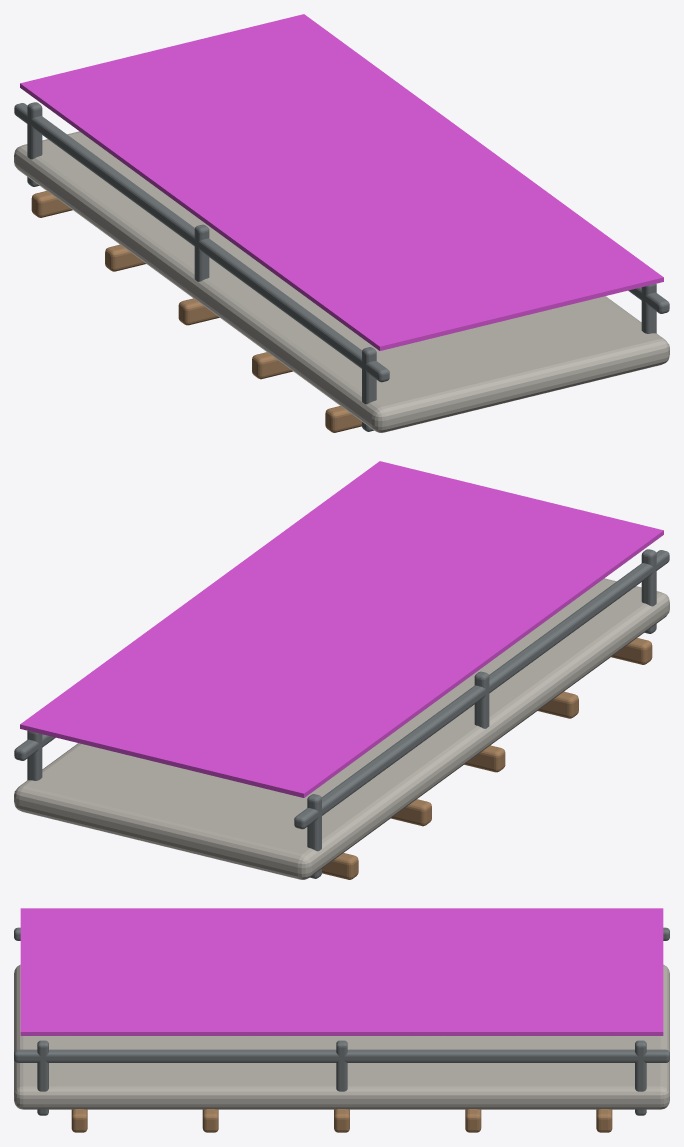
The model's file is mini_vehicle_bridge_lod0_v1.glb.
The picture shows the model from 3 angles, top to bottom: view 1: azimuth 30°, elevation 25°; view 2: azimuth 150°, elevation 25°; view 3: azimuth 270°, elevation 25°; orthographic projection. The views are drawn at different scales.
Parts seen in each view (by area): view 1: NAV_MASK_MINI_VEHICLE_BRIDGE, LOD0_MINI_VEHICLE_BRIDGE_Deck, LOD0_MINI_VEHICLE_BRIDGE_Rail, LOD0_MINI_VEHICLE_BRIDGE_Post.002, LOD0_MINI_VEHICLE_BRIDGE_CrossBeam_03, LOD0_MINI_VEHICLE_BRIDGE_CrossBeam_05, LOD0_MINI_VEHICLE_BRIDGE_CrossBeam_04, LOD0_MINI_VEHICLE_BRIDGE_CrossBeam_02, LOD0_MINI_VEHICLE_BRIDGE_Post, LOD0_MINI_VEHICLE_BRIDGE_CrossBeam_01, LOD0_MINI_VEHICLE_BRIDGE_Post.001; view 2: NAV_MASK_MINI_VEHICLE_BRIDGE, LOD0_MINI_VEHICLE_BRIDGE_Deck, LOD0_MINI_VEHICLE_BRIDGE_Rail, LOD0_MINI_VEHICLE_BRIDGE_Post, LOD0_MINI_VEHICLE_BRIDGE_CrossBeam_03, LOD0_MINI_VEHICLE_BRIDGE_CrossBeam_01, LOD0_MINI_VEHICLE_BRIDGE_Post.002, LOD0_MINI_VEHICLE_BRIDGE_CrossBeam_02, LOD0_MINI_VEHICLE_BRIDGE_CrossBeam_04, LOD0_MINI_VEHICLE_BRIDGE_CrossBeam_05, LOD0_MINI_VEHICLE_BRIDGE_Post.001; view 3: NAV_MASK_MINI_VEHICLE_BRIDGE, LOD0_MINI_VEHICLE_BRIDGE_Deck, LOD0_MINI_VEHICLE_BRIDGE_Rail.001, LOD0_MINI_VEHICLE_BRIDGE_Post.003, LOD0_MINI_VEHICLE_BRIDGE_Post.005, LOD0_MINI_VEHICLE_BRIDGE_Post.004, LOD0_MINI_VEHICLE_BRIDGE_CrossBeam_01, LOD0_MINI_VEHICLE_BRIDGE_CrossBeam_02, LOD0_MINI_VEHICLE_BRIDGE_CrossBeam_04, LOD0_MINI_VEHICLE_BRIDGE_CrossBeam_05, LOD0_MINI_VEHICLE_BRIDGE_CrossBeam_03.
Boxes of the visible parts, box(x1,y1,x2,y2) form: NAV_MASK_MINI_VEHICLE_BRIDGE: box(20, 14, 663, 350); LOD0_MINI_VEHICLE_BRIDGE_Deck: box(14, 131, 669, 432); LOD0_MINI_VEHICLE_BRIDGE_Rail: box(14, 103, 389, 382); LOD0_MINI_VEHICLE_BRIDGE_Post.002: box(27, 102, 42, 186); LOD0_MINI_VEHICLE_BRIDGE_CrossBeam_03: box(178, 298, 219, 325); LOD0_MINI_VEHICLE_BRIDGE_CrossBeam_05: box(31, 191, 72, 217); LOD0_MINI_VEHICLE_BRIDGE_CrossBeam_04: box(105, 244, 145, 271); LOD0_MINI_VEHICLE_BRIDGE_CrossBeam_02: box(252, 352, 292, 379); LOD0_MINI_VEHICLE_BRIDGE_Post: box(362, 347, 376, 431); LOD0_MINI_VEHICLE_BRIDGE_CrossBeam_01: box(325, 406, 361, 432); LOD0_MINI_VEHICLE_BRIDGE_Post.001: box(194, 224, 209, 281); NAV_MASK_MINI_VEHICLE_BRIDGE: box(20, 461, 663, 797); LOD0_MINI_VEHICLE_BRIDGE_Deck: box(14, 578, 669, 879); LOD0_MINI_VEHICLE_BRIDGE_Rail: box(294, 550, 669, 829); LOD0_MINI_VEHICLE_BRIDGE_Post: box(641, 549, 656, 633); LOD0_MINI_VEHICLE_BRIDGE_CrossBeam_03: box(464, 745, 505, 772); LOD0_MINI_VEHICLE_BRIDGE_CrossBeam_01: box(611, 638, 652, 664); LOD0_MINI_VEHICLE_BRIDGE_Post.002: box(307, 794, 321, 878); LOD0_MINI_VEHICLE_BRIDGE_CrossBeam_02: box(538, 691, 578, 718); LOD0_MINI_VEHICLE_BRIDGE_CrossBeam_04: box(391, 799, 431, 826); LOD0_MINI_VEHICLE_BRIDGE_CrossBeam_05: box(322, 853, 358, 879); LOD0_MINI_VEHICLE_BRIDGE_Post.001: box(474, 671, 489, 728); NAV_MASK_MINI_VEHICLE_BRIDGE: box(20, 908, 663, 1035); LOD0_MINI_VEHICLE_BRIDGE_Deck: box(14, 964, 669, 1109); LOD0_MINI_VEHICLE_BRIDGE_Rail.001: box(14, 1049, 669, 1062); LOD0_MINI_VEHICLE_BRIDGE_Post.003: box(37, 1040, 48, 1115); LOD0_MINI_VEHICLE_BRIDGE_Post.005: box(635, 1040, 646, 1115); LOD0_MINI_VEHICLE_BRIDGE_Post.004: box(336, 1040, 347, 1091); LOD0_MINI_VEHICLE_BRIDGE_CrossBeam_01: box(71, 1109, 87, 1132); LOD0_MINI_VEHICLE_BRIDGE_CrossBeam_02: box(202, 1109, 218, 1132); LOD0_MINI_VEHICLE_BRIDGE_CrossBeam_04: box(465, 1109, 481, 1132); LOD0_MINI_VEHICLE_BRIDGE_CrossBeam_05: box(596, 1109, 612, 1132); LOD0_MINI_VEHICLE_BRIDGE_CrossBeam_03: box(334, 1109, 349, 1132).
Size of what is drawn, in the model's own units: 4.55 by 1.42 by 9.
